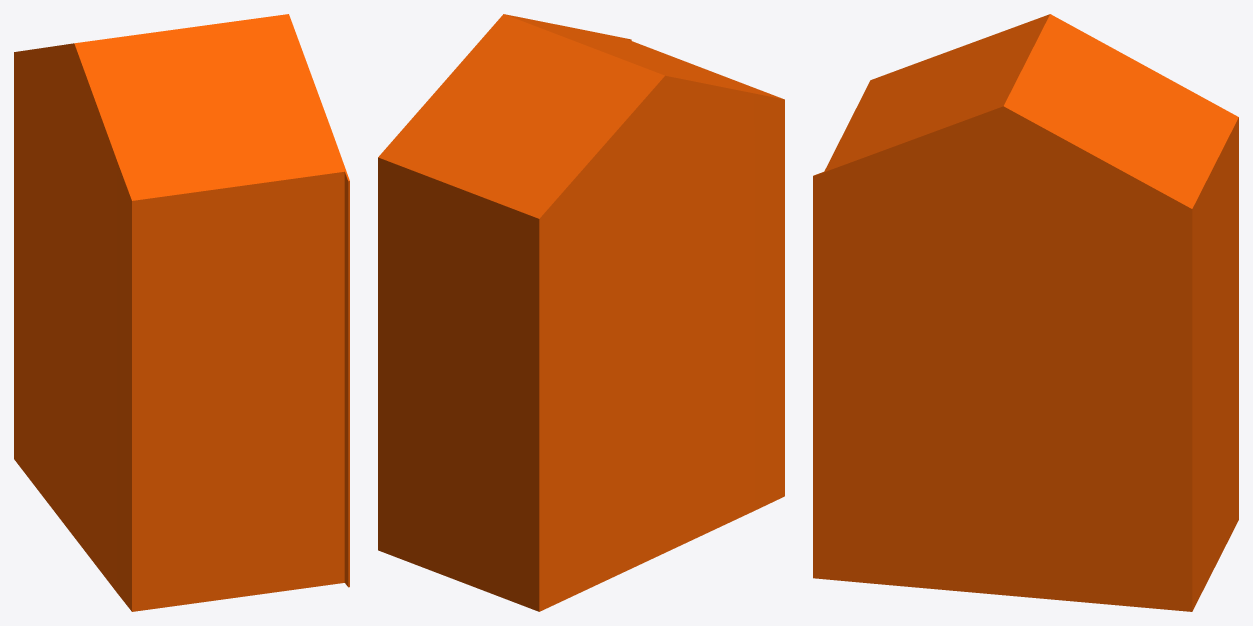
File: DEHB01ALn0001O18.dae
The picture shows the model from 3 angles, left to right: view 1: azimuth 30°, elevation 25°; view 2: azimuth 150°, elevation 25°; view 3: azimuth 270°, elevation 25°; orthographic projection. The views are drawn at different scales.
Bounding box in the file's own units: 8 × 11.52 × 14.6.
